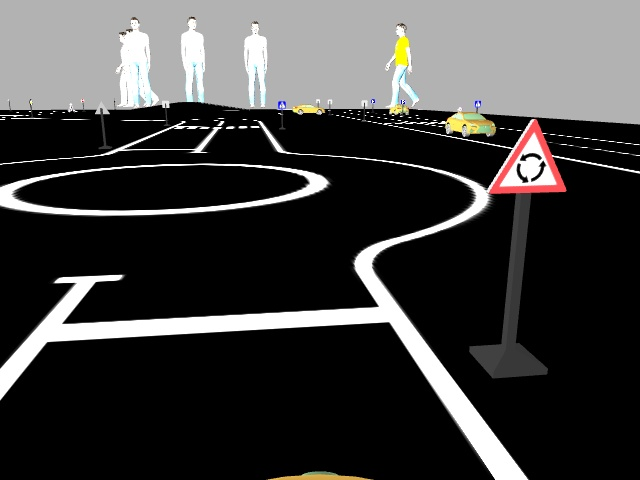Roundabout: (485, 119, 569, 197)
